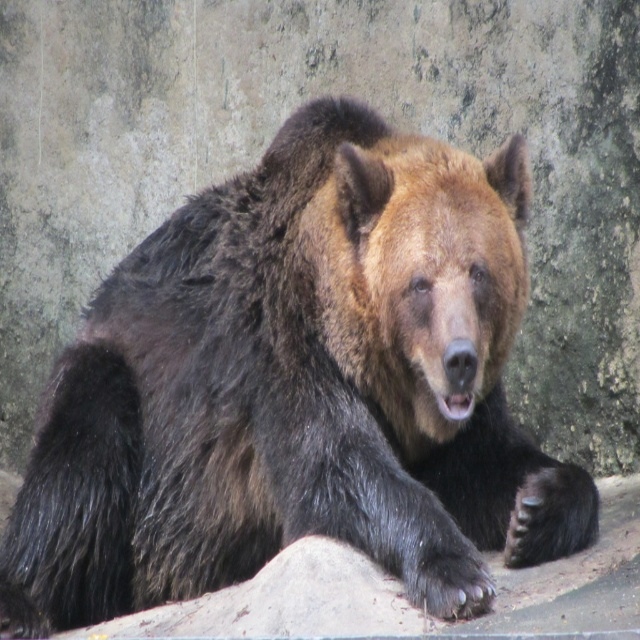Brown bear: (0, 90, 602, 640)
